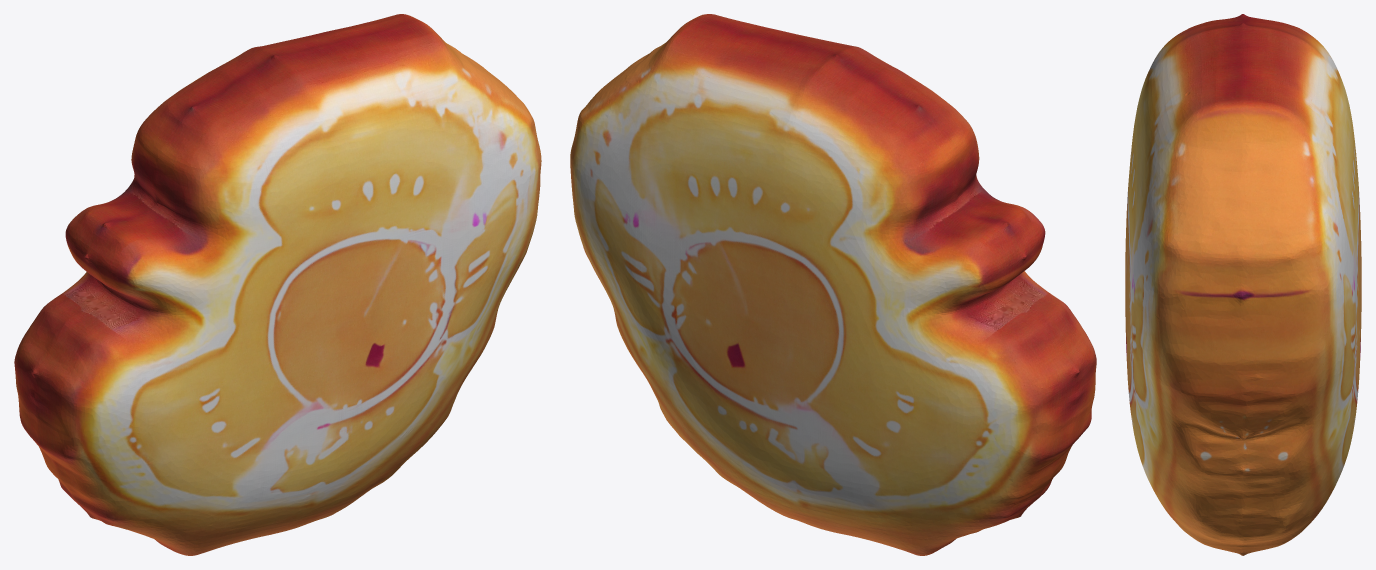
File: image_0002_segmented.glb
3 views of the same model, side by side, from view 1: azimuth 30°, elevation 25°; view 2: azimuth 150°, elevation 25°; view 3: azimuth 270°, elevation 25° (orthographic). The views are drawn at different scales.
Parts seen in each view (by area): view 1: tmp1m48ey3e.ply; view 2: tmp1m48ey3e.ply; view 3: tmp1m48ey3e.ply.
Part boxes in pixels (x1,y1,x2,y2): tmp1m48ey3e.ply: (14, 14, 541, 555); tmp1m48ey3e.ply: (570, 14, 1096, 555); tmp1m48ey3e.ply: (1125, 14, 1361, 555).
Size of the model in its own units: 1.99 by 1.85 by 0.7717.
Materials: 1 (1 with a texture image).
